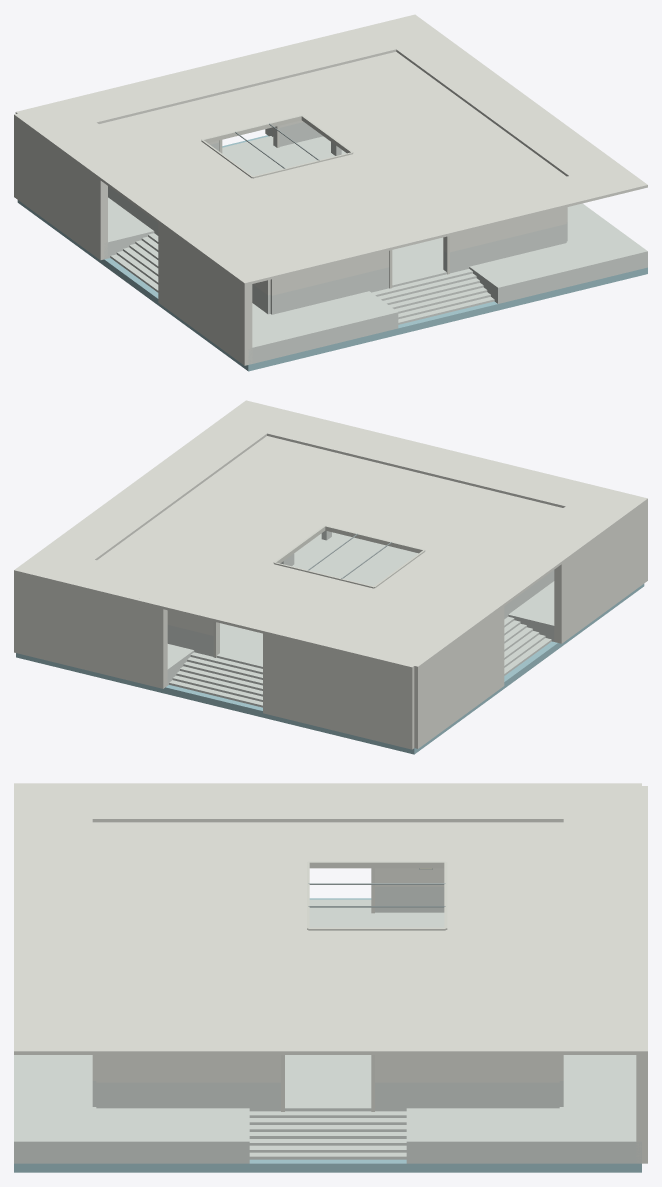
The model's file is crescent_court.glb.
3 renders of one model, top to bottom at view 1: azimuth 30°, elevation 25°; view 2: azimuth 150°, elevation 25°; view 3: azimuth 270°, elevation 25°, orthographic. The views are drawn at different scales.
Parts seen in each view (by area): view 1: IntegratedRoom_art_pass_plaster_oyster, IntegratedRoom_art_pass_tile_pearl, IntegratedRoom_art_pass_tile_blue, IntegratedRoom_art_pass_coping_ivory; view 2: IntegratedRoom_art_pass_plaster_oyster, IntegratedRoom_art_pass_tile_pearl, IntegratedRoom_art_pass_tile_blue, IntegratedRoom_art_pass_coping_ivory; view 3: IntegratedRoom_art_pass_plaster_oyster, IntegratedRoom_art_pass_tile_pearl, IntegratedRoom_art_pass_tile_blue, IntegratedRoom_art_pass_coping_ivory.
Boxes of the visible parts, <box> form: IntegratedRoom_art_pass_plaster_oyster: <box>14,14,647,365</box>; IntegratedRoom_art_pass_tile_pearl: <box>104,122,647,364</box>; IntegratedRoom_art_pass_tile_blue: <box>17,135,647,371</box>; IntegratedRoom_art_pass_coping_ivory: <box>201,115,449,288</box>; IntegratedRoom_art_pass_plaster_oyster: <box>14,400,647,749</box>; IntegratedRoom_art_pass_tile_pearl: <box>165,530,554,707</box>; IntegratedRoom_art_pass_tile_blue: <box>16,584,644,754</box>; IntegratedRoom_art_pass_coping_ivory: <box>213,525,425,657</box>; IntegratedRoom_art_pass_plaster_oyster: <box>14,783,647,1163</box>; IntegratedRoom_art_pass_tile_pearl: <box>14,886,641,1163</box>; IntegratedRoom_art_pass_tile_blue: <box>14,898,641,1172</box>; IntegratedRoom_art_pass_coping_ivory: <box>281,861,447,1111</box>.
Size of what is drawn, in the model's own units: 32.3 by 6.82 by 32.3.
